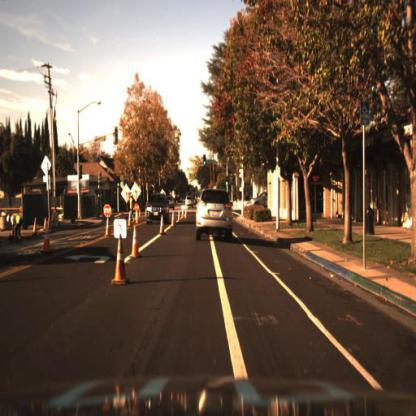car: (196, 187, 237, 244), (145, 193, 172, 231), (246, 191, 271, 213), (183, 193, 197, 211)
pedestrian: (128, 190, 138, 224)
trafficLight-Green: (115, 180, 123, 193), (223, 176, 230, 190), (224, 177, 231, 189), (202, 154, 207, 170)
